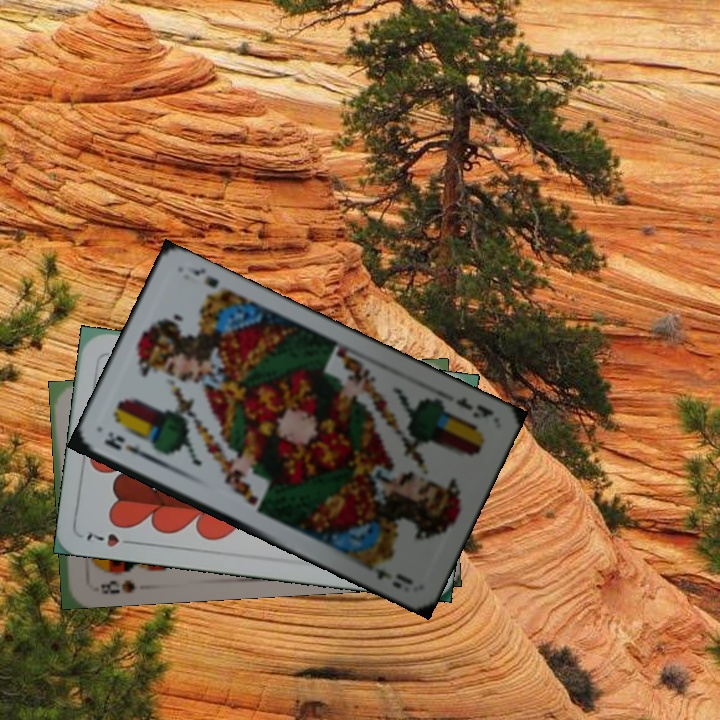EK: (100, 428, 155, 463), (452, 393, 497, 421)
H7: (82, 529, 139, 550)
S8: (96, 576, 138, 597)
